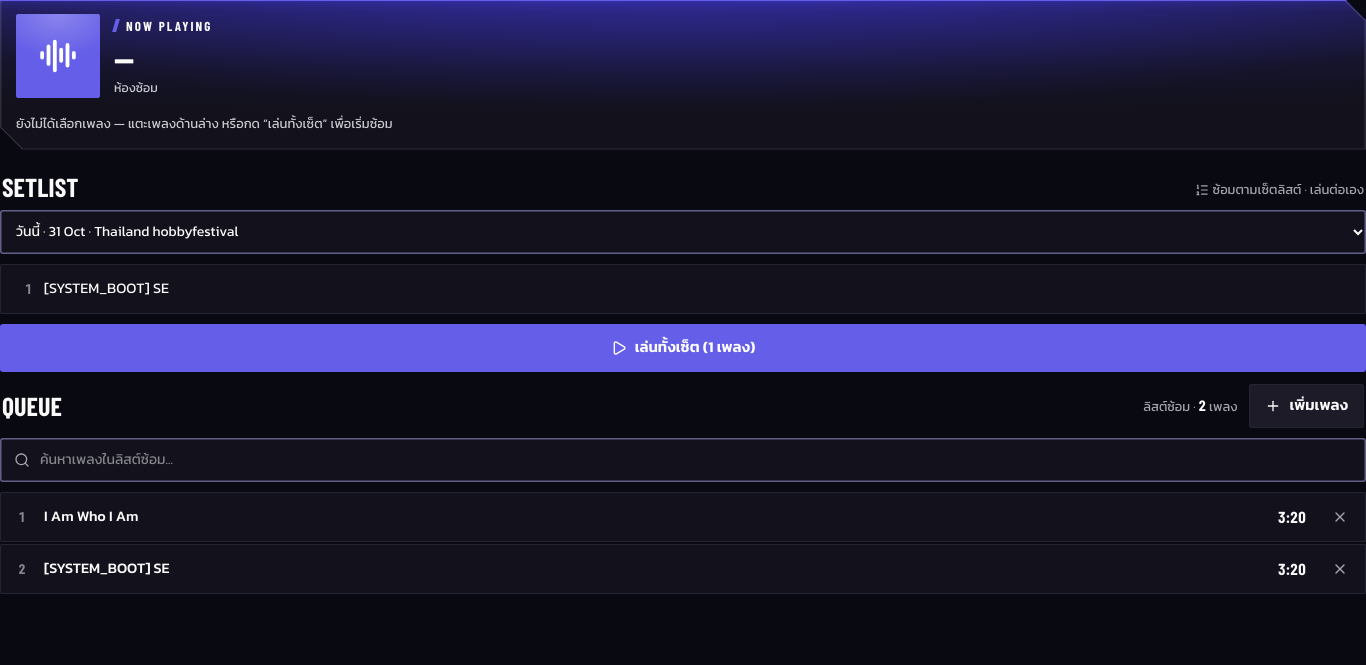
it: practice player: the screen wake lock in a set's wait › a 45 s wait after a song keeps the screen on until the next song
The width and height of the screenshot is (1366, 665).
Expected: the button "เล่นทั้งเซ็ต (1 เพลง)" is shown, top-left (0, 324), bottom-right (1365, 372)
Select "เซ็ตของห้องนี้ (สร้างเอง) · 2 เพลง" in the dropdown named "เลือกงานที่จะซ้อม" at {"x": 683, "y": 232}, box top-left (0, 210), bottom-right (1365, 254)
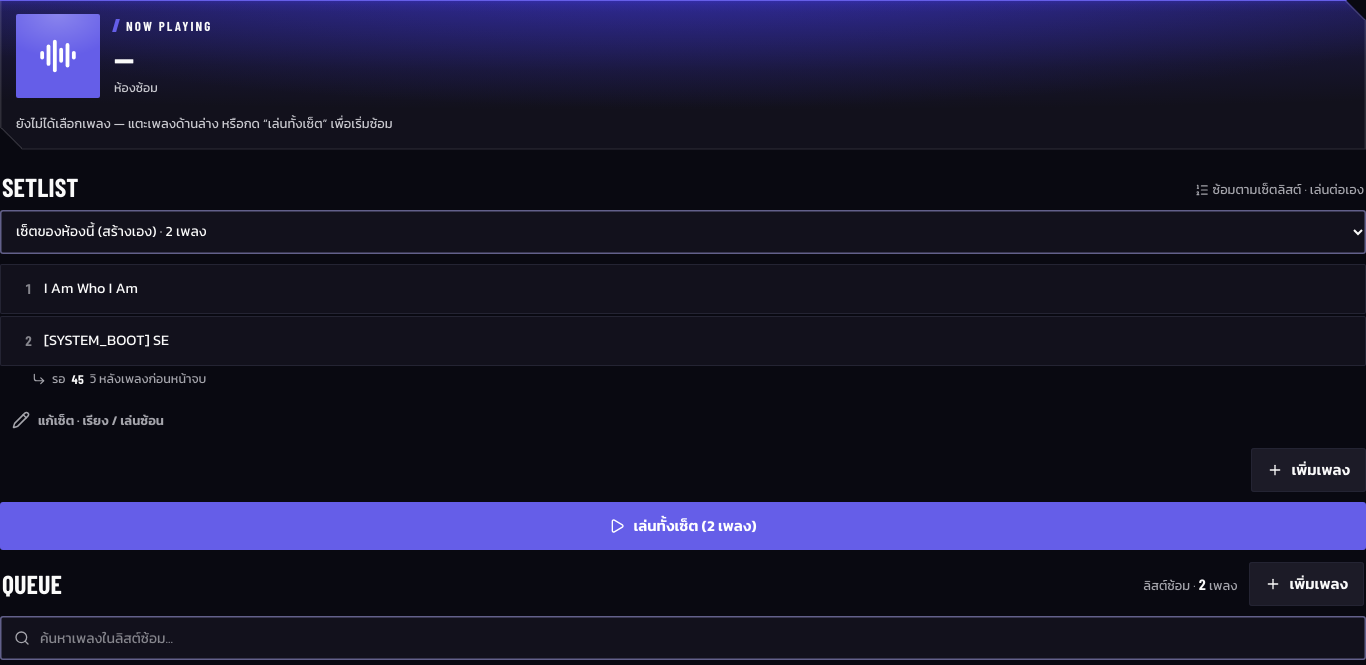
Click the button "เล่นทั้งเซ็ต (2 เพลง)".
click(683, 526)  # box top-left (0, 502), bottom-right (1365, 550)
(page scrolled)
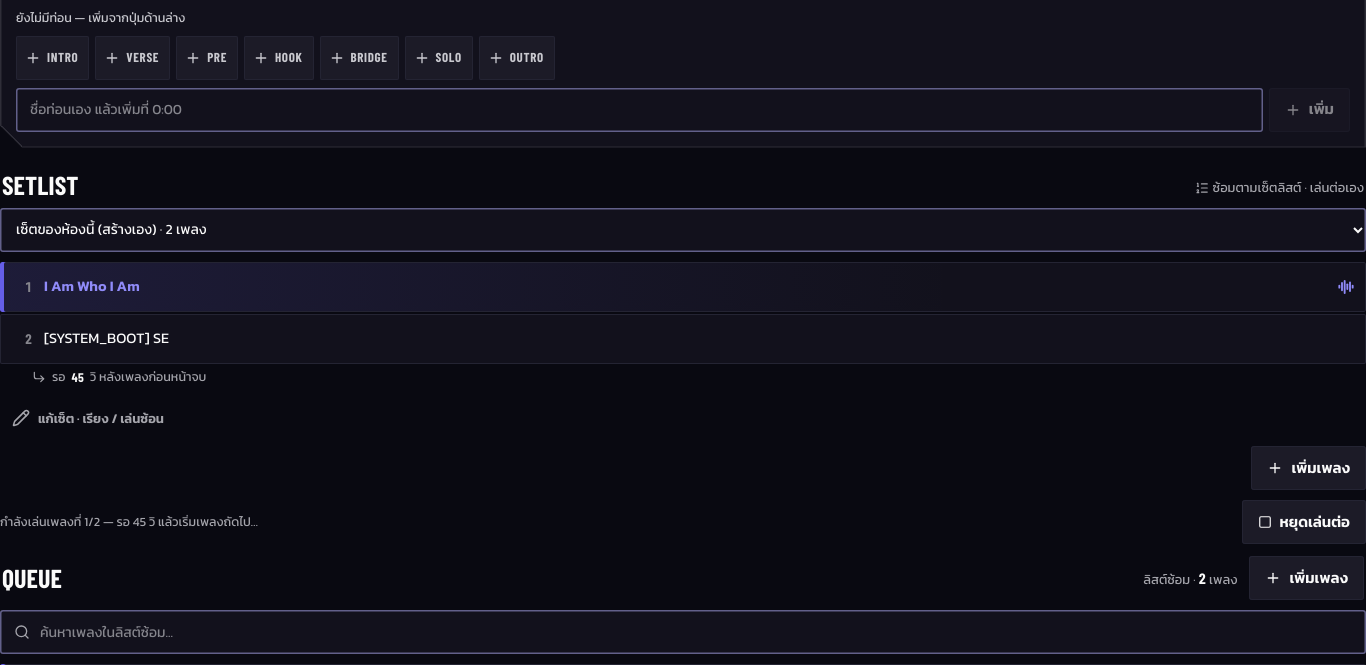
Expected: the text "กำลังเล่นเพลงที่ 1/2 — รอ 45 วิ แล้วเริ่มเพลงถัดไป…" is shown, top-left (0, 513), bottom-right (258, 532)
